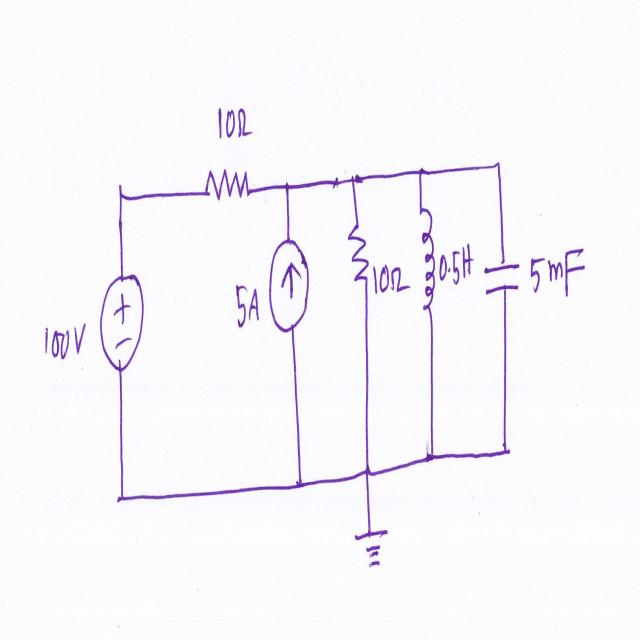capacitor: (480, 253, 522, 307)
current_source: (264, 230, 313, 339)
ground: (352, 526, 391, 580)
inductor: (415, 201, 439, 312)
resistor: (199, 163, 252, 211), (344, 212, 372, 291)
voltage_source: (96, 264, 150, 384)
